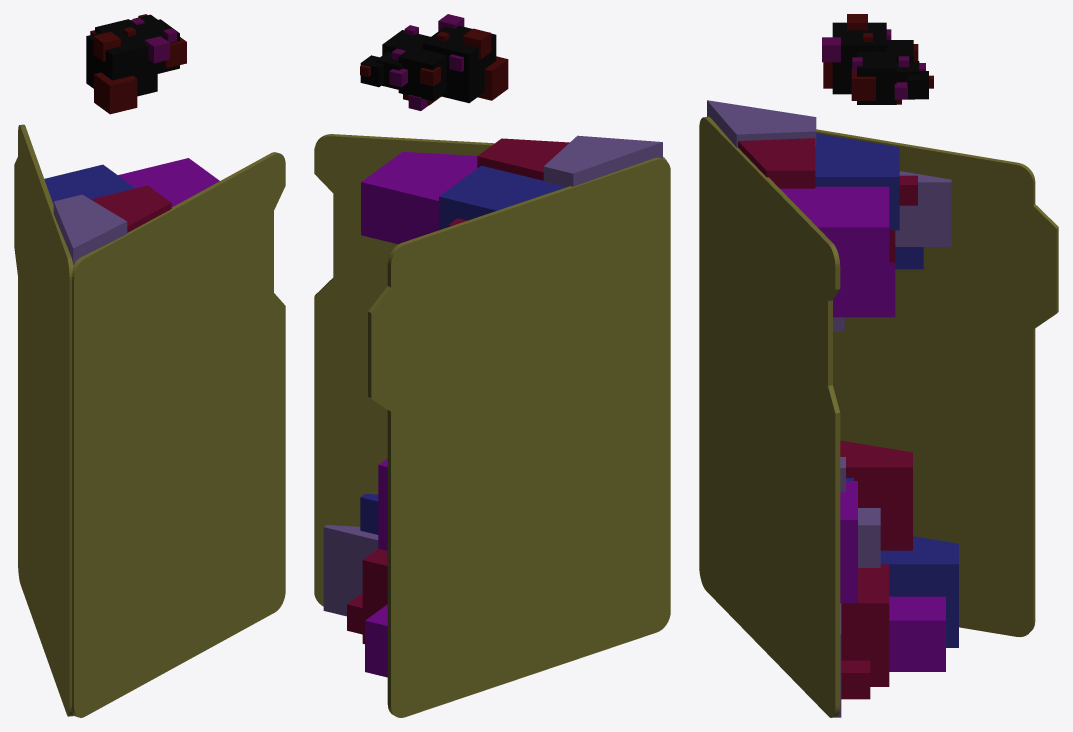
The model's file is Cannon_Tower (1).fbx.
3 views of the same model, side by side, from view 1: azimuth 30°, elevation 25°; view 2: azimuth 150°, elevation 25°; view 3: azimuth 270°, elevation 25° (orthographic). The views are drawn at different scales.
Visible parts, largest first — view 1: Cannon_Tower_; view 2: Cannon_Tower_; view 3: Cannon_Tower_.
Part boxes in pixels (x1=…): Cannon_Tower_: x1=14, y1=14, x2=285, y2=717; Cannon_Tower_: x1=314, y1=14, x2=670, y2=717; Cannon_Tower_: x1=699, y1=14, x2=1058, y2=717.
Bounding box in the file's own units: 2.88 × 5.9 × 3.1.
